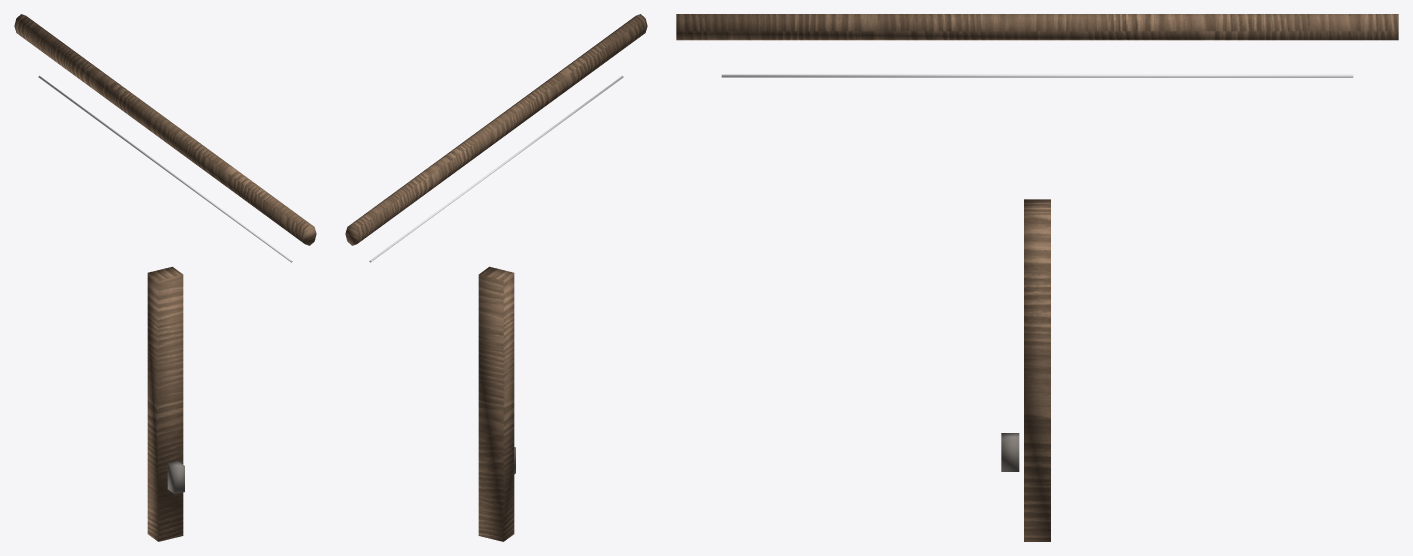
File: crossbow.glb
3 views of the same model, side by side, from view 1: azimuth 30°, elevation 25°; view 2: azimuth 150°, elevation 25°; view 3: azimuth 270°, elevation 25° (orthographic). The views are drawn at different scales.
Parts seen in each view (by area): view 1: crossbow; view 2: crossbow; view 3: crossbow.
Part boxes in pixels (x1,y1,x2,y2): crossbow: (14,14,316,541); crossbow: (345,14,647,541); crossbow: (676,14,1398,541).
Bounding box in the file's own units: 0.02 × 0.318 × 0.4.
2 materials, 1 textured.
